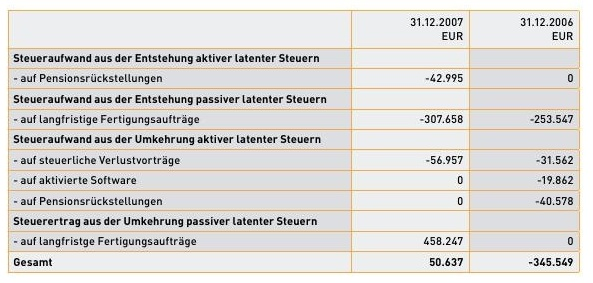table: (0, 0, 593, 283)
